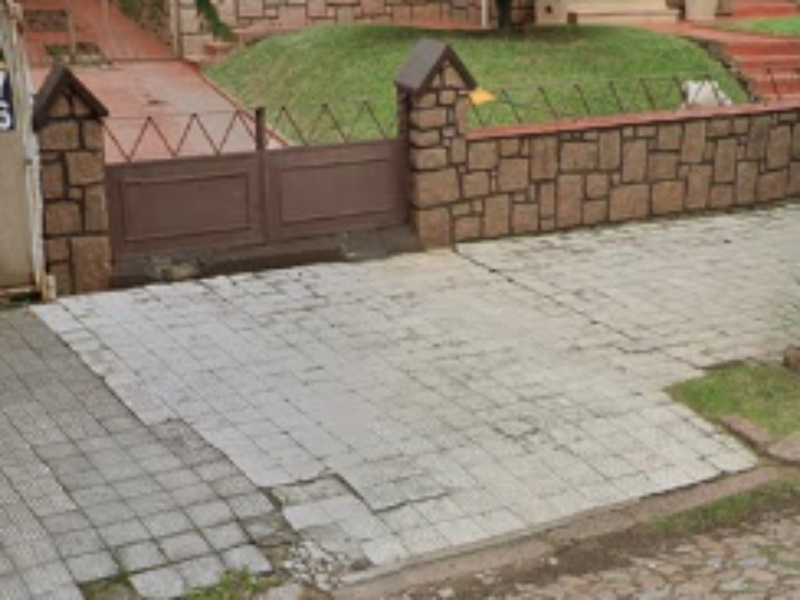g57: (315, 421, 781, 600)
